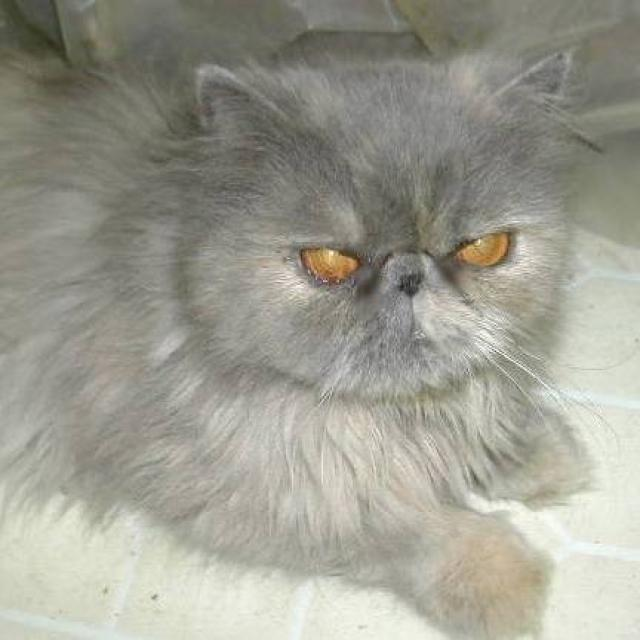cat: (0, 27, 613, 638)
